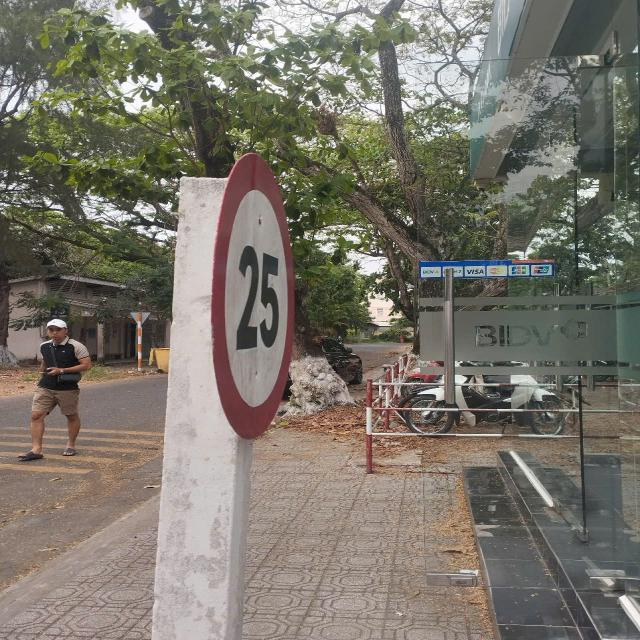Tre_Em: (211, 152, 296, 439)
